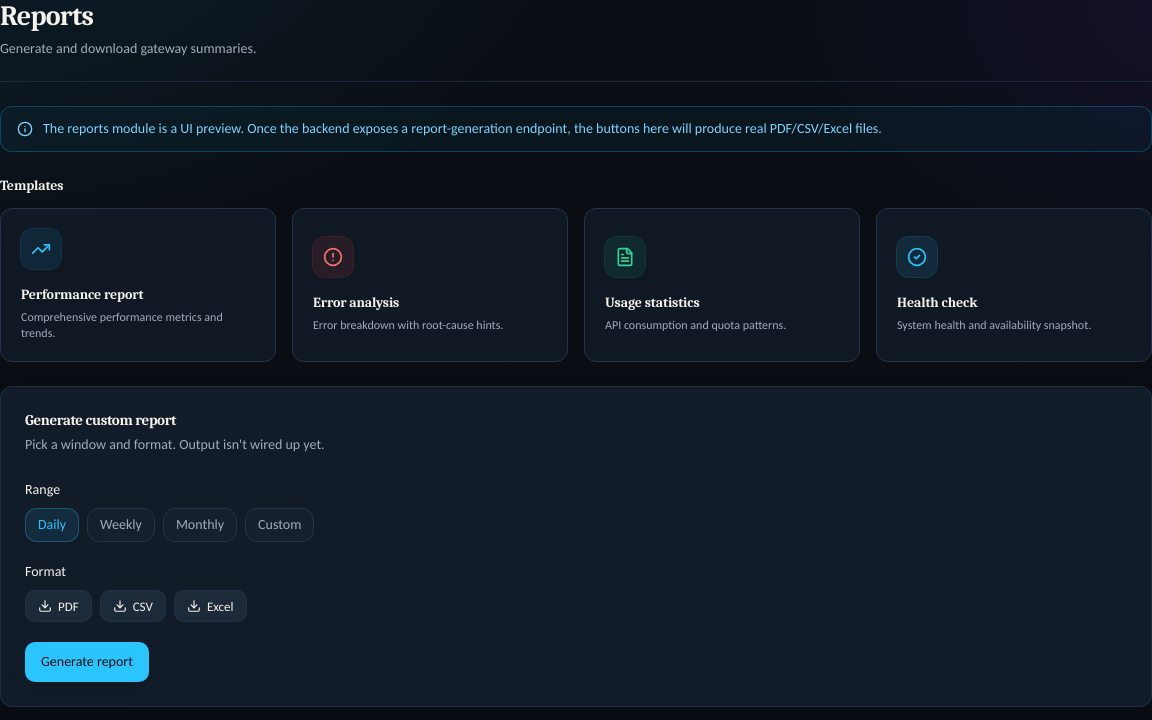
Reports page › shows date inputs only for the custom range and accepts edits
Check: the text "Start date" is not shown
Click the button "custom". click: [280, 525]
box: [245, 508, 314, 542]
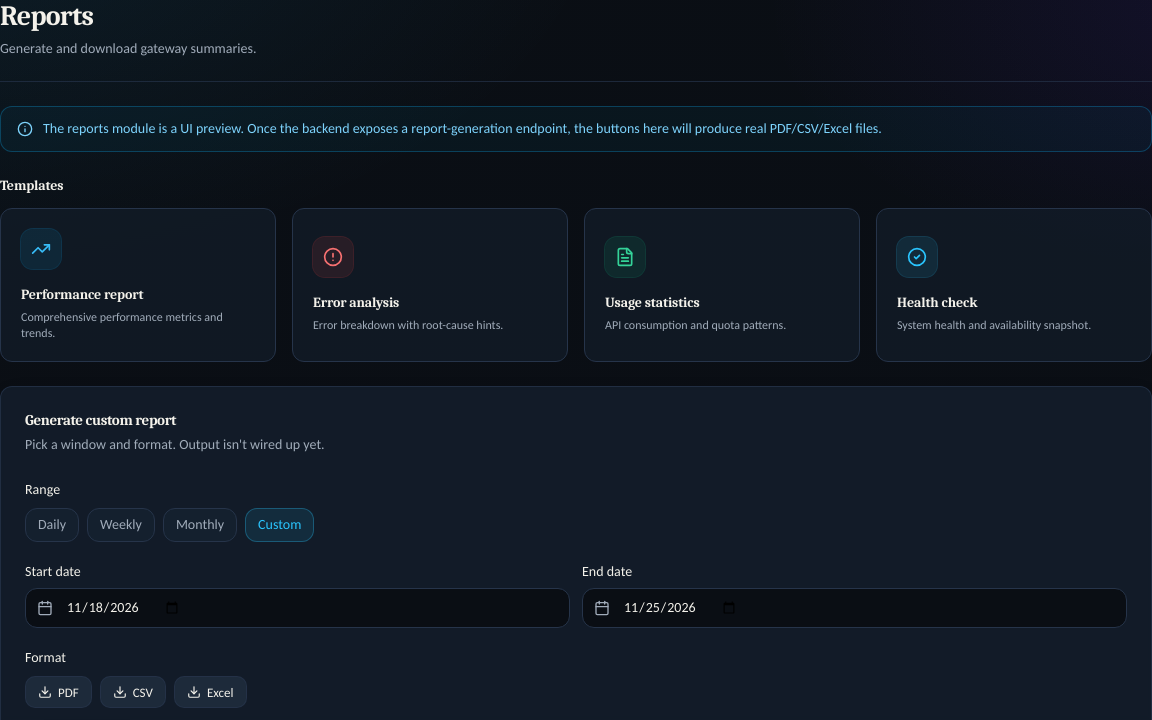
Check: the date field below "Start date" is shown
Type "2025-01-01" into the date field below "Start date". click: [298, 608]
box: [25, 588, 570, 628]
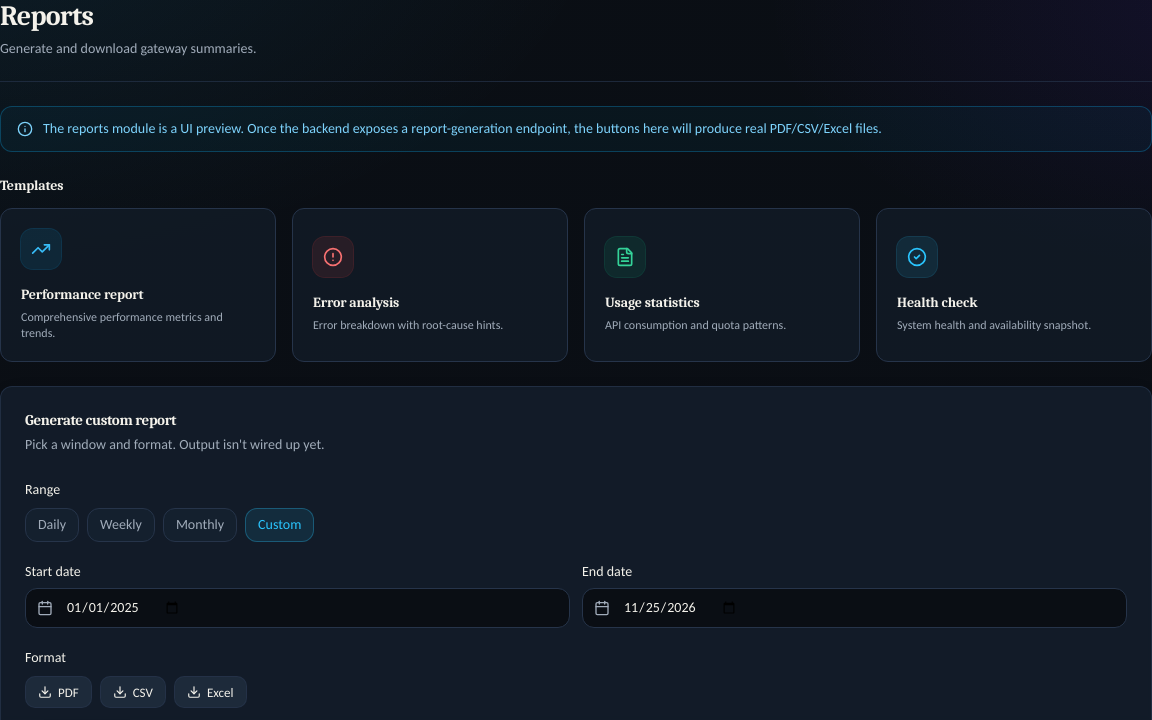
Type "2025-01-31" into the date field below "End date". click: [854, 608]
box: [582, 588, 1127, 628]
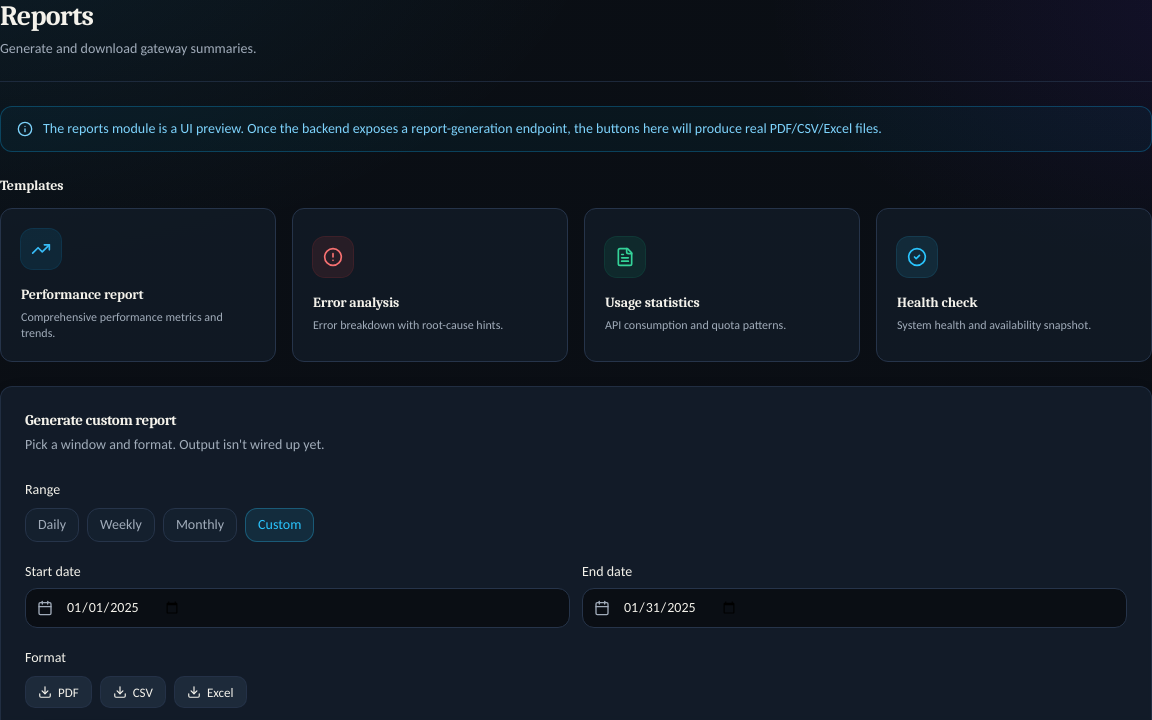
Click the button "daily". click: [52, 525]
box: [25, 508, 79, 542]
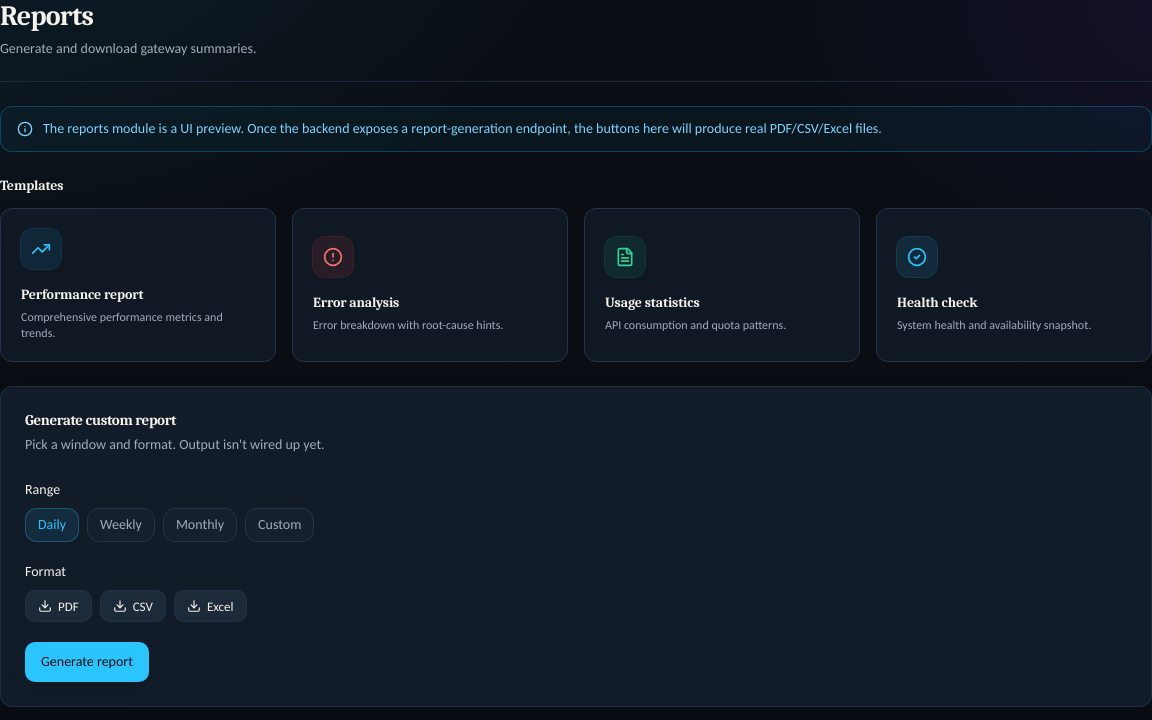
Check: the text "Start date" is gone
